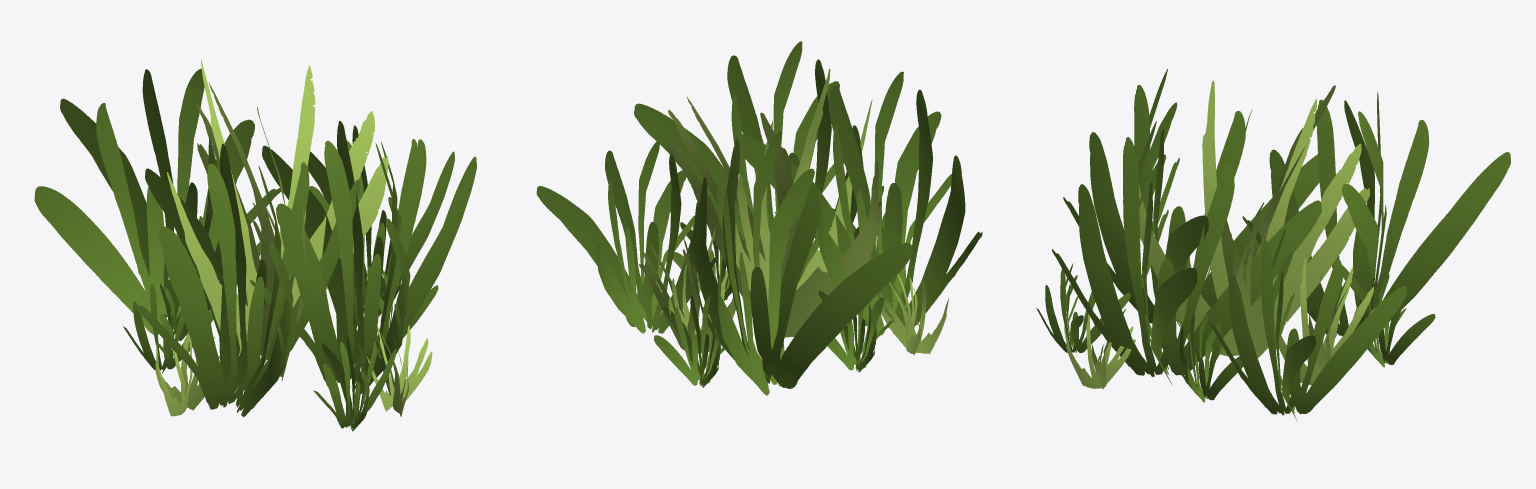
File: Grass_1.fbx
The picture shows the model from 3 angles, left to right: view 1: azimuth 30°, elevation 25°; view 2: azimuth 150°, elevation 25°; view 3: azimuth 270°, elevation 25°; orthographic projection. The views are drawn at different scales.
Parts seen in each view (by area): view 1: Grass_group_1; view 2: Grass_group_1; view 3: Grass_group_1.
Part boxes in pixels (bbox=[...]): Grass_group_1: bbox=[34, 59, 476, 431]; Grass_group_1: bbox=[536, 41, 982, 395]; Grass_group_1: bbox=[1036, 69, 1510, 421].
Size of the model in its own units: 2.08 by 1.41 by 2.14.
